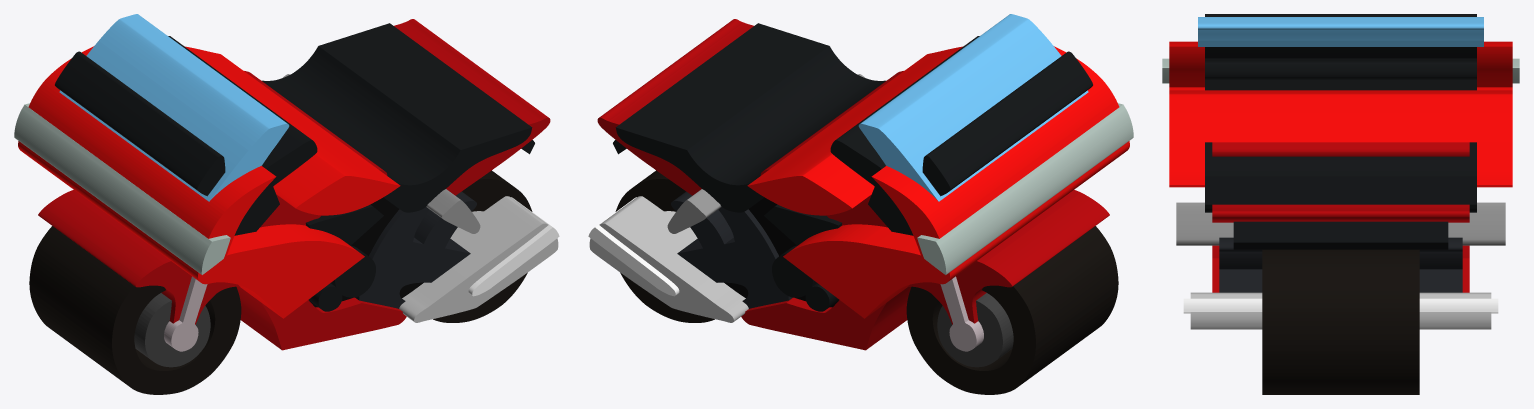
3 views of the same model, side by side, from view 1: azimuth 30°, elevation 25°; view 2: azimuth 150°, elevation 25°; view 3: azimuth 270°, elevation 25° (orthographic). The views are drawn at different scales.
Parts seen in each view (by area): view 1: U+1F3CD_layer09_obj01, U+1F3CD_layer14_obj01, U+1F3CD_layer01_obj01, U+1F3CD_layer10_obj00, U+1F3CD_layer15_obj00, U+1F3CD_layer09_obj00, U+1F3CD_layer14_obj00, U+1F3CD_layer11_obj00, U+1F3CD_layer03_obj00, U+1F3CD_layer08_obj00, U+1F3CD_layer07_obj00, U+1F3CD_layer08_obj01 (+9 smaller); view 2: U+1F3CD_layer09_obj01, U+1F3CD_layer14_obj01, U+1F3CD_layer01_obj01, U+1F3CD_layer10_obj00, U+1F3CD_layer15_obj00, U+1F3CD_layer09_obj00, U+1F3CD_layer14_obj00, U+1F3CD_layer11_obj00, U+1F3CD_layer03_obj00, U+1F3CD_layer08_obj00, U+1F3CD_layer07_obj00, U+1F3CD_layer08_obj01 (+9 smaller); view 3: U+1F3CD_layer01_obj00, U+1F3CD_layer14_obj00, U+1F3CD_layer09_obj01, U+1F3CD_layer09_obj04, U+1F3CD_layer10_obj00, U+1F3CD_layer14_obj01, U+1F3CD_layer05_obj00, U+1F3CD_layer08_obj01, U+1F3CD_layer08_obj00, U+1F3CD_layer07_obj00, U+1F3CD_layer13_obj00, U+1F3CD_layer11_obj00 (+3 smaller).
Boxes of the visible parts, <box> form: U+1F3CD_layer09_obj01: <box>262,23,532,212</box>; U+1F3CD_layer14_obj01: <box>18,46,364,318</box>; U+1F3CD_layer01_obj01: <box>29,226,241,394</box>; U+1F3CD_layer10_obj00: <box>59,14,289,201</box>; U+1F3CD_layer15_obj00: <box>14,103,230,274</box>; U+1F3CD_layer09_obj00: <box>55,51,225,196</box>; U+1F3CD_layer14_obj00: <box>185,46,400,215</box>; U+1F3CD_layer11_obj00: <box>399,196,558,322</box>; U+1F3CD_layer03_obj00: <box>38,190,239,324</box>; U+1F3CD_layer08_obj00: <box>236,71,406,350</box>; U+1F3CD_layer07_obj00: <box>355,191,476,308</box>; U+1F3CD_layer08_obj01: <box>394,19,550,195</box>; U+1F3CD_layer09_obj01: <box>615,23,885,212</box>; U+1F3CD_layer14_obj01: <box>783,46,1129,318</box>; U+1F3CD_layer01_obj01: <box>906,226,1118,394</box>; U+1F3CD_layer10_obj00: <box>858,14,1088,201</box>; U+1F3CD_layer15_obj00: <box>917,103,1133,274</box>; U+1F3CD_layer09_obj00: <box>922,51,1092,196</box>; U+1F3CD_layer14_obj00: <box>747,46,962,215</box>; U+1F3CD_layer11_obj00: <box>589,196,748,322</box>; U+1F3CD_layer03_obj00: <box>908,190,1109,324</box>; U+1F3CD_layer08_obj00: <box>741,71,911,350</box>; U+1F3CD_layer07_obj00: <box>671,191,792,308</box>; U+1F3CD_layer08_obj01: <box>597,19,753,195</box>; U+1F3CD_layer01_obj00: <box>1262,249,1419,394</box>; U+1F3CD_layer14_obj00: <box>1169,90,1512,142</box>; U+1F3CD_layer09_obj01: <box>1205,142,1476,212</box>; U+1F3CD_layer09_obj04: <box>1205,47,1476,90</box>; U+1F3CD_layer10_obj00: <box>1198,17,1483,46</box>; U+1F3CD_layer14_obj01: <box>1169,41,1512,187</box>; U+1F3CD_layer05_obj00: <box>1233,221,1448,249</box>; U+1F3CD_layer08_obj01: <box>1212,204,1469,222</box>; U+1F3CD_layer08_obj00: <box>1212,142,1469,292</box>; U+1F3CD_layer07_obj00: <box>1219,237,1462,292</box>; U+1F3CD_layer13_obj00: <box>1176,202,1505,245</box>; U+1F3CD_layer11_obj00: <box>1190,292,1491,329</box>.
Size of the model in its own units: 0.3265 by 0.2028 by 0.25.
